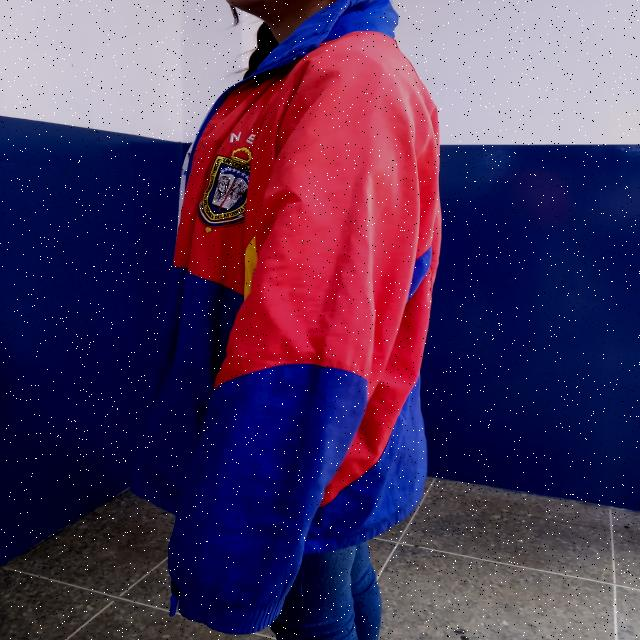chaqueta_unefa: (131, 0, 443, 635)
